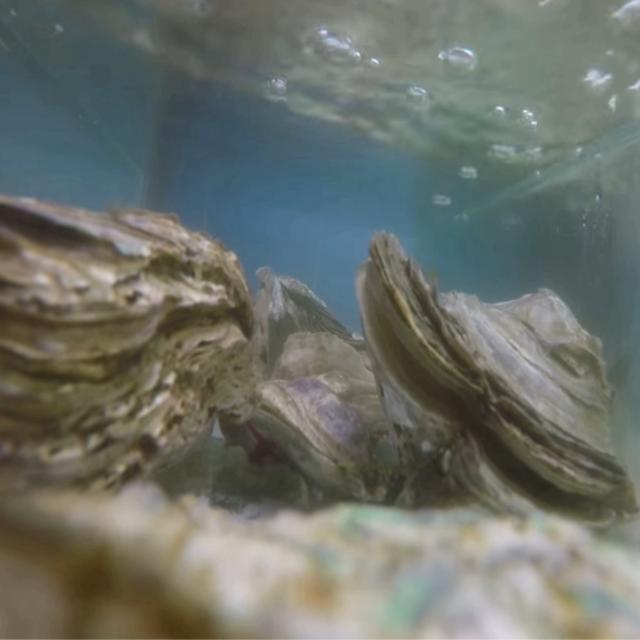Oyster-Closed: (0, 195, 257, 525), (247, 330, 421, 510)
Oyster-Indeterminate: (0, 484, 640, 640), (254, 261, 370, 377)
Oyster-Open: (355, 230, 640, 544)
